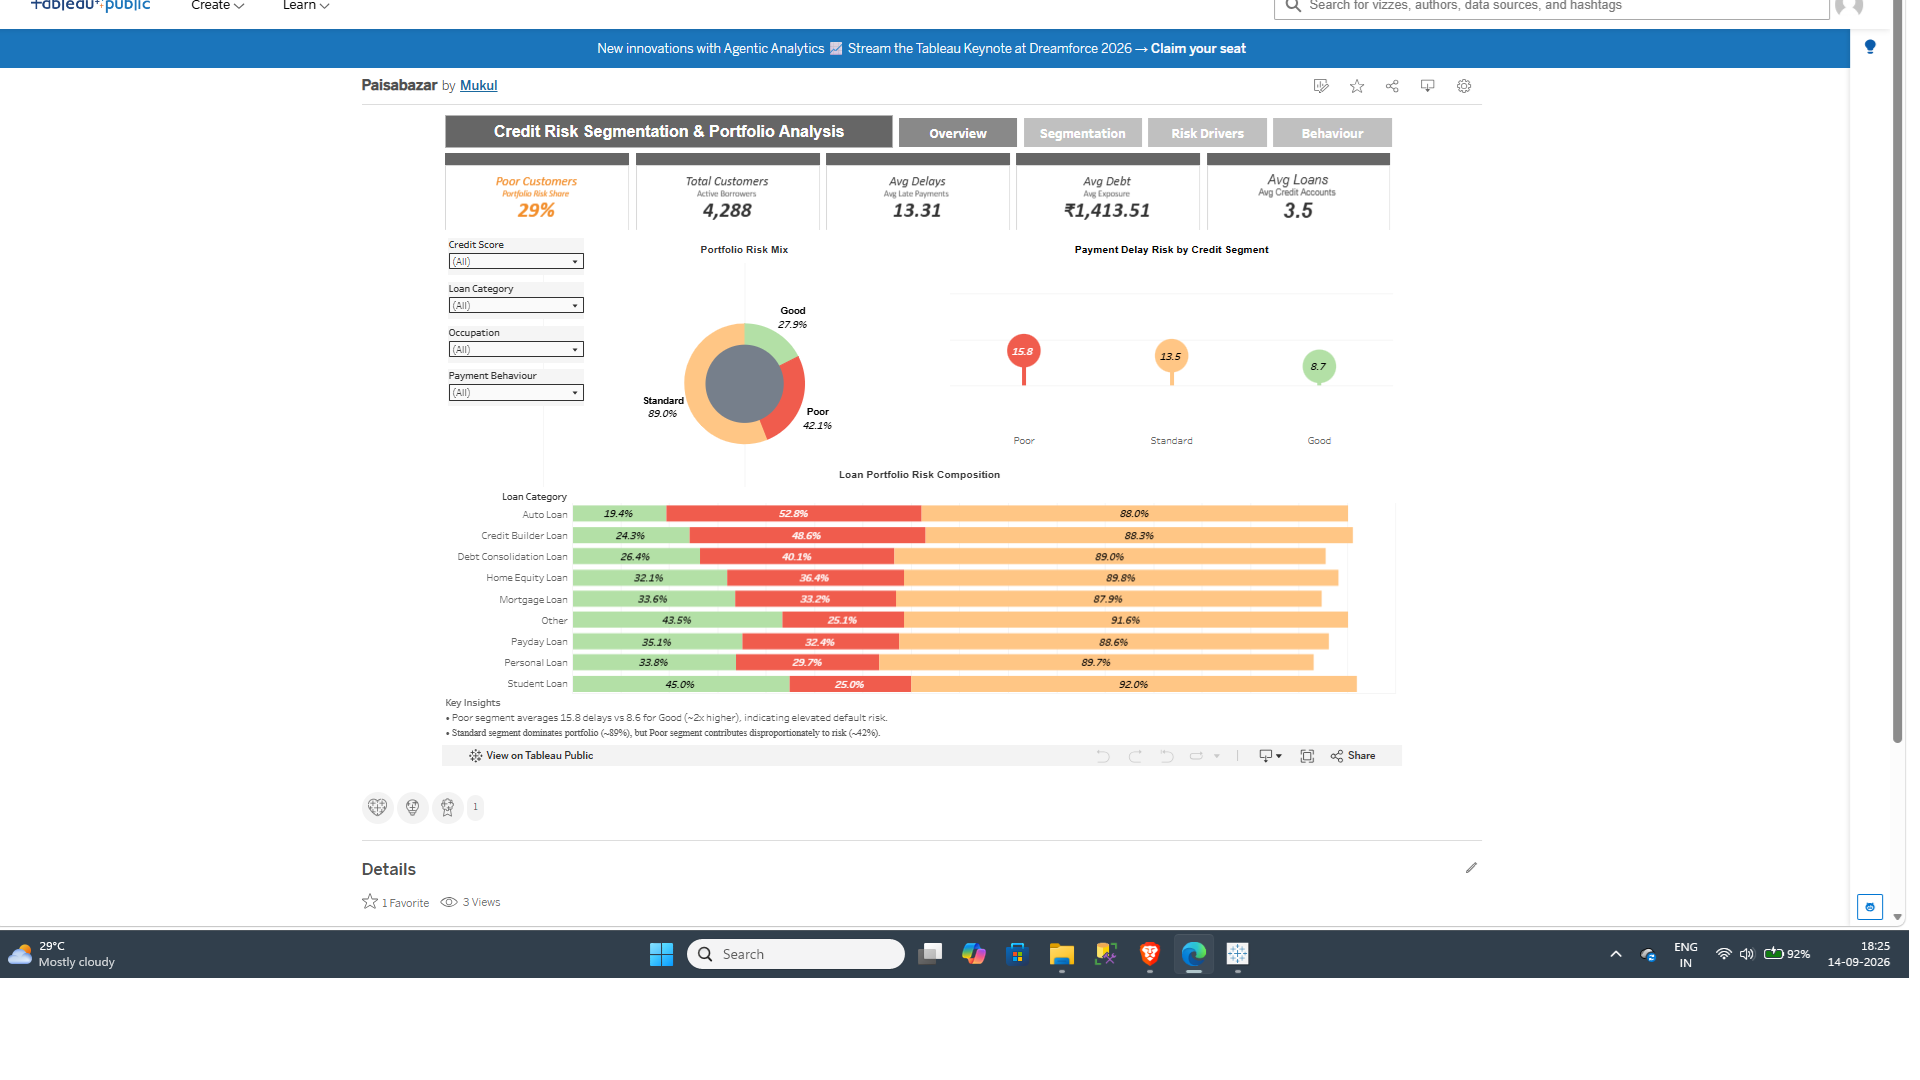

The dashboard page shown, as its layout file describes it:
{"tool":"tableau","page":{"name":"Paisabazaar Credit Risk Segmentation & Portfolio Analysis","canvas":[1200,800],"ordinal":3},"visuals":[{"type":"text","box":[4,12,560,42]},{"type":"dashboard-object","box":[567,12,156,44]},{"type":"dashboard-object","box":[723,12,156,44]},{"type":"dashboard-object","box":[879,12,156,44]},{"type":"dashboard-object","box":[1035,12,156,44]},{"type":"worksheet","title":"KPI 2 — % Poor Customers","mark":"Automatic","box":[0,56,238,104]},{"type":"worksheet","title":"KPI 1 — Total Customers","mark":"Automatic","box":[238,56,238,104]},{"type":"worksheet","title":"KPI – Avg Delays","mark":"Automatic","box":[476,56,238,104]},{"type":"worksheet","title":"KPI – Avg Debt","mark":"Automatic","box":[714,56,238,104]},{"type":"worksheet","title":"KPI – Avg Loans","mark":"Automatic","box":[952,56,237,104]},{"type":"filter","title":"Portfolio Risk Mix","param":"[federated.15f112y1ovy6xx0zsyzso0p85ix3].[none:Credit_Score:nk]","box":[4,162,178,55]},{"type":"worksheet","title":"Portfolio Risk Mix","mark":"Pie","cols":["Calculation_792070630996058120","Calculation_792070630996287499"],"box":[126,167,504,332]},{"type":"worksheet","title":"Payment Delay Risk by Credit Segment","mark":"Circle","rows":["Num_of_Delayed_Payment","Num_of_Delayed_Payment"],"cols":["Credit_Score"],"box":[635,167,554,260]},{"type":"filter","title":"Loan Portfolio Risk Composition","param":"[federated.15f112y1ovy6xx0zsyzso0p85ix3].[none:Calculation_1417508029693423616:n","box":[4,217,178,55]},{"type":"filter","title":"Payment Delay Risk by Credit Segment","param":"[federated.15f112y1ovy6xx0zsyzso0p85ix3].[none:Occupation:nk]","box":[4,272,178,54]},{"type":"filter","title":"KPI 1 — Total Customers","param":"[federated.15f112y1ovy6xx0zsyzso0p85ix3].[none:Payment_Behaviour:nk]","box":[4,326,178,54]},{"type":"worksheet","title":"Loan Portfolio Risk Composition","mark":"Automatic","rows":["Calculation_1417508029693423616"],"box":[2,448,1190,288]},{"type":"text","box":[4,735,641,61]}]}

Visuals, with their boxes on the page's 1200x800 design canvas (x1, y1, x2, y2). These are canvas units, not pixel positions in the 1920x1080 screenshot, which may show the page scaled, cropped or inside an application window:
text: (x1=4, y1=12, x2=564, y2=54)
dashboard-object: (x1=567, y1=12, x2=723, y2=56)
dashboard-object: (x1=723, y1=12, x2=879, y2=56)
dashboard-object: (x1=879, y1=12, x2=1035, y2=56)
dashboard-object: (x1=1035, y1=12, x2=1191, y2=56)
"KPI 2 — % Poor Customers" worksheet: (x1=0, y1=56, x2=238, y2=160)
"KPI 1 — Total Customers" worksheet: (x1=238, y1=56, x2=476, y2=160)
"KPI – Avg Delays" worksheet: (x1=476, y1=56, x2=714, y2=160)
"KPI – Avg Debt" worksheet: (x1=714, y1=56, x2=952, y2=160)
"KPI – Avg Loans" worksheet: (x1=952, y1=56, x2=1189, y2=160)
"Portfolio Risk Mix" filter: (x1=4, y1=162, x2=182, y2=217)
"Portfolio Risk Mix" worksheet (Pie marks): (x1=126, y1=167, x2=630, y2=499)
"Payment Delay Risk by Credit Segment" worksheet (Circle marks): (x1=635, y1=167, x2=1189, y2=427)
"Loan Portfolio Risk Composition" filter: (x1=4, y1=217, x2=182, y2=272)
"Payment Delay Risk by Credit Segment" filter: (x1=4, y1=272, x2=182, y2=326)
"KPI 1 — Total Customers" filter: (x1=4, y1=326, x2=182, y2=380)
"Loan Portfolio Risk Composition" worksheet: (x1=2, y1=448, x2=1192, y2=736)
text: (x1=4, y1=735, x2=645, y2=796)
